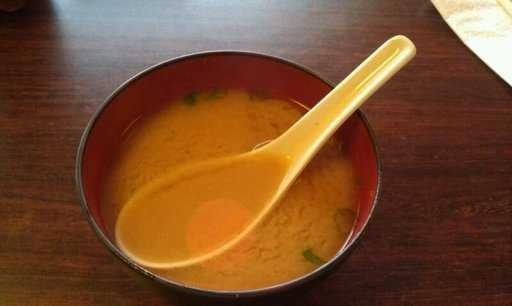soup: (70, 54, 383, 279)
